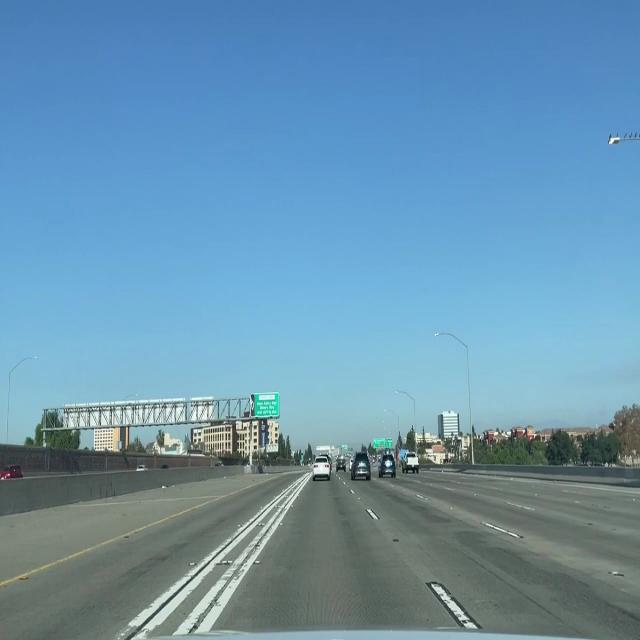street-signs: (255, 390, 279, 417), (372, 437, 385, 450), (386, 437, 392, 449), (342, 442, 347, 451)
